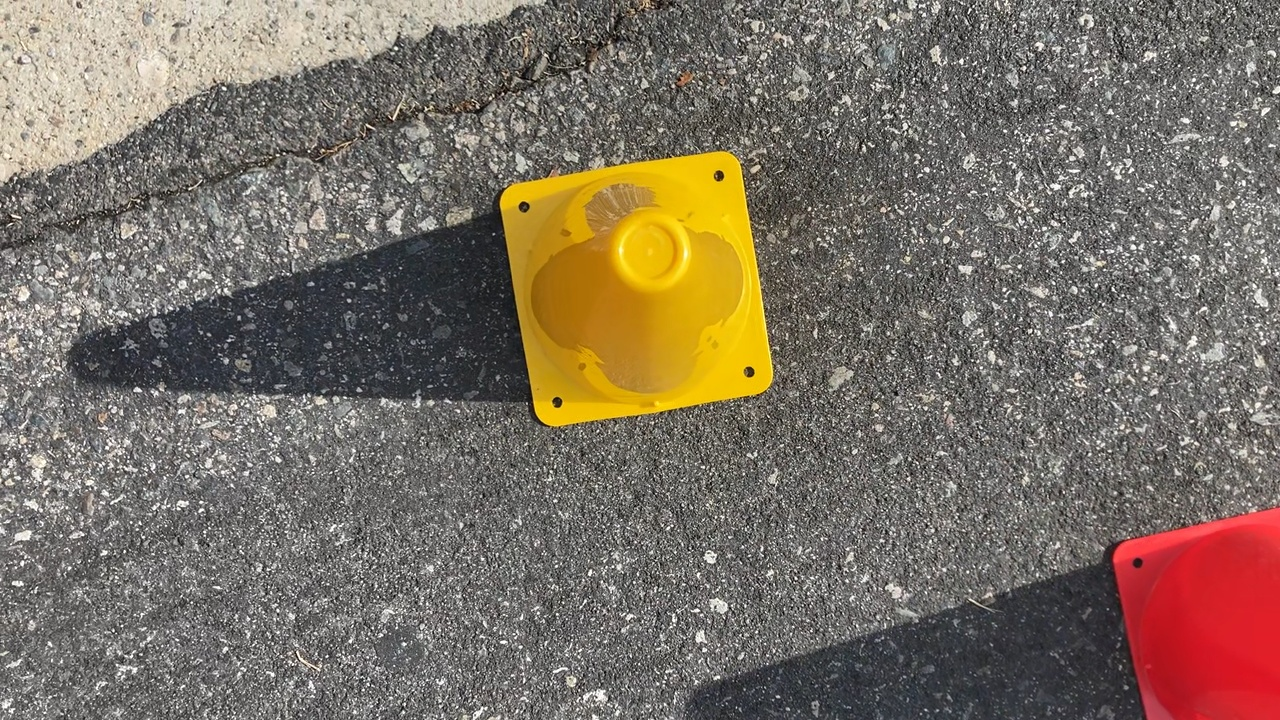red_cone: (1108, 501, 1280, 720)
yellow_cone: (494, 147, 778, 428)
